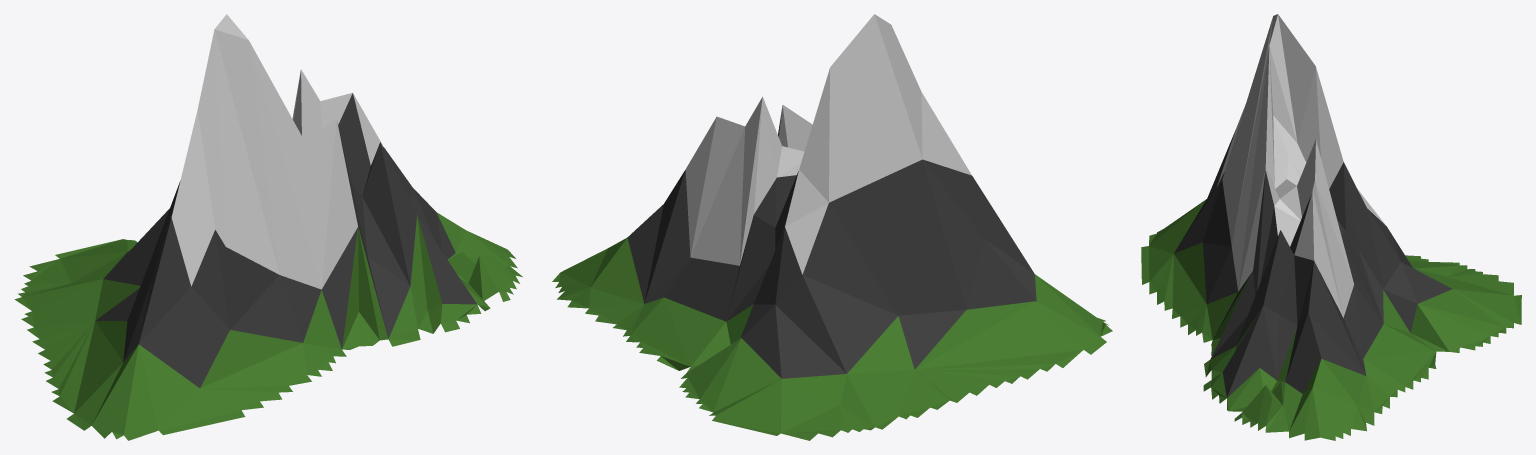
File: Mountain4_low.fbx
3 views of the same model, side by side, from view 1: azimuth 30°, elevation 25°; view 2: azimuth 150°, elevation 25°; view 3: azimuth 270°, elevation 25° (orthographic). The views are drawn at different scales.
Parts seen in each view (by area): view 1: Plane.015; view 2: Plane.015; view 3: Plane.015.
Boxes of the visible parts, x1,y1,x2,y2 form: Plane.015: (14, 14, 522, 440); Plane.015: (552, 14, 1112, 440); Plane.015: (1141, 14, 1521, 440).
Size of the model in its own units: 1333 by 862 by 991.
